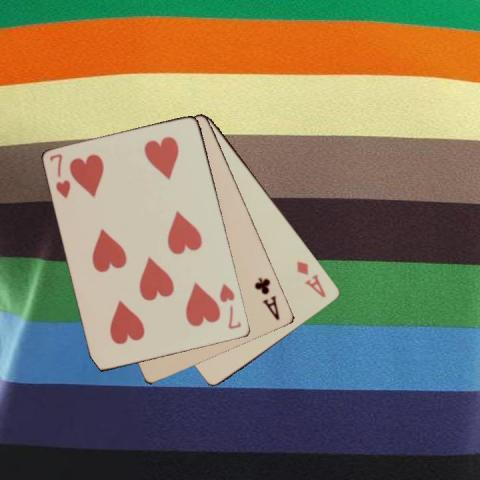7h: (46, 150, 73, 200), (217, 280, 243, 331)
Ac: (252, 275, 281, 321)
Ad: (294, 257, 328, 300)
